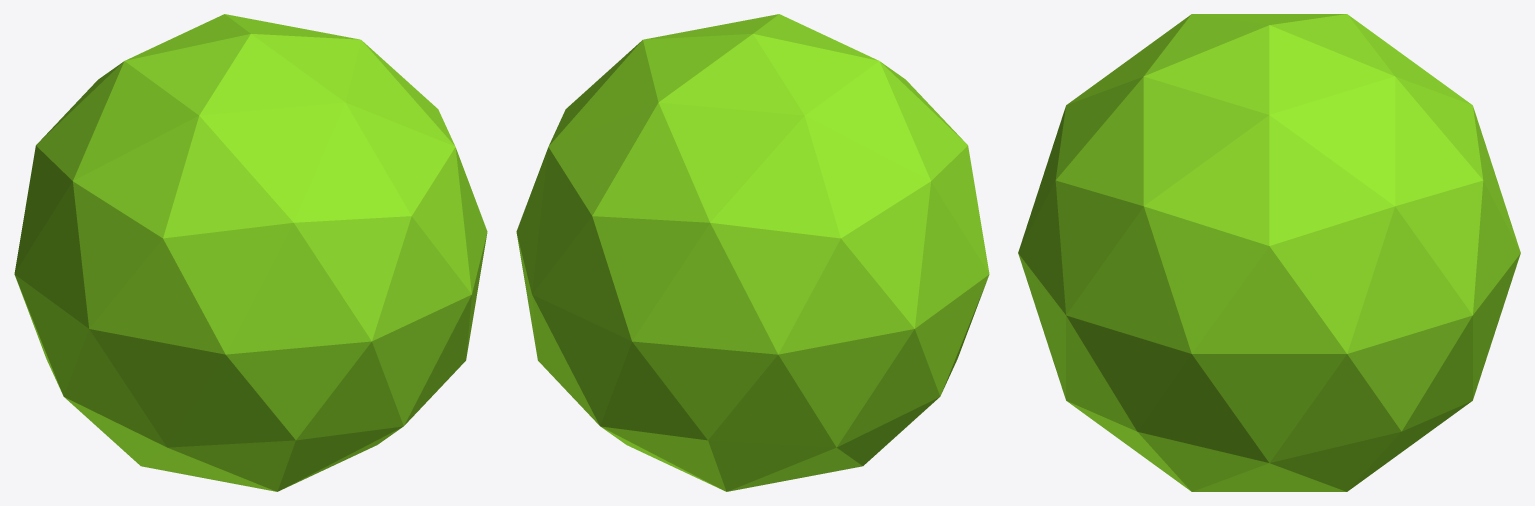
Rendered from celula-000.glb.
The picture shows the model from 3 angles, left to right: view 1: azimuth 30°, elevation 25°; view 2: azimuth 150°, elevation 25°; view 3: azimuth 270°, elevation 25°; orthographic projection. The views are drawn at different scales.
Parts seen in each view (by area): view 1: Icosphere; view 2: Icosphere; view 3: Icosphere.
Part boxes in pixels (x1,y1,x2,y2): Icosphere: (14, 14, 487, 491); Icosphere: (516, 14, 989, 491); Icosphere: (1018, 14, 1520, 491).
Bounding box in the file's own units: 2.85 × 3 × 3.
